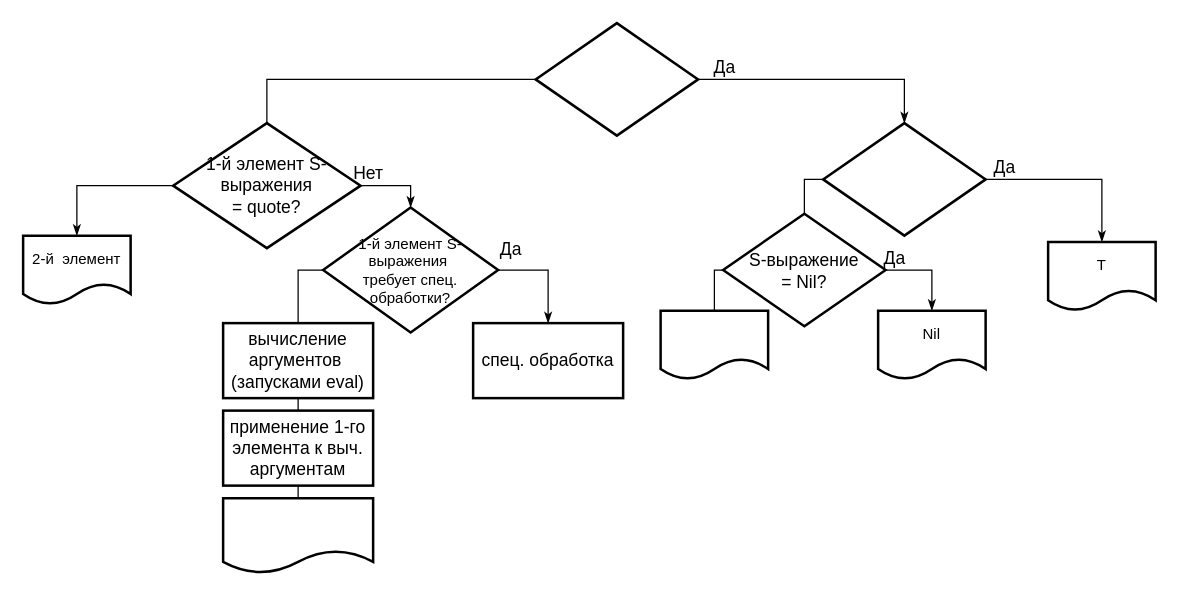
The diagram is 1178 pixels wide and 595 high, and some of its shapes have lost their labels. Here are the shapes that lost their labels. From the top down, the centre of each, then its label:
At point (616, 78): "S-выражение - атом?".
At point (903, 178): "S-выражение = T?".
At point (714, 344): "значение S-выражения".
At point (297, 535): "результат (S- выражение)".
